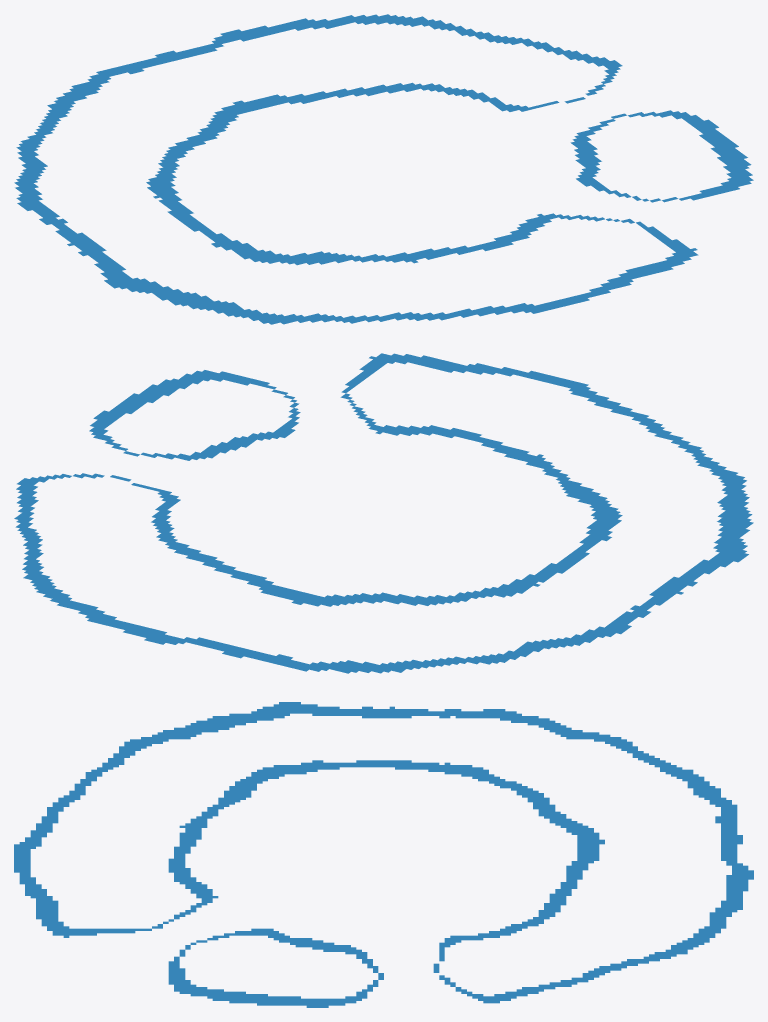
File: Isl-atoll3-PlaceForWaterObjects.fbx
3 views of the same model, one above another, from view 1: azimuth 30°, elevation 25°; view 2: azimuth 150°, elevation 25°; view 3: azimuth 270°, elevation 25° (orthographic). The views are drawn at different scales.
Parts seen in each view (by area): view 1: Isl-atoll3-PlaceForWaterObjects; view 2: Isl-atoll3-PlaceForWaterObjects; view 3: Isl-atoll3-PlaceForWaterObjects.
Part boxes in pixels (x1,y1,x2,y2): Isl-atoll3-PlaceForWaterObjects: (14,14,753,324); Isl-atoll3-PlaceForWaterObjects: (14,353,753,673); Isl-atoll3-PlaceForWaterObjects: (14,702,753,1007).
Bounding box in the file's own units: 131 × 0 × 134.
